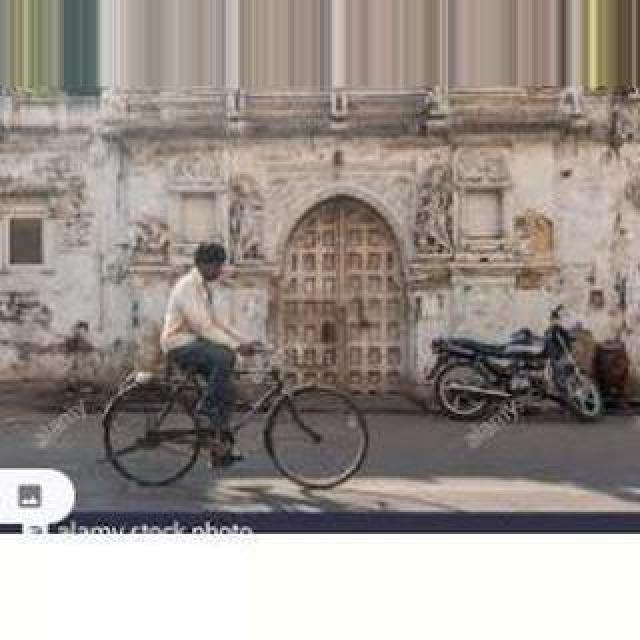Emergency Vehicles-Bike: (430, 300, 604, 424)
MC-Bike: (160, 238, 274, 472)
Person: (100, 341, 370, 493)
